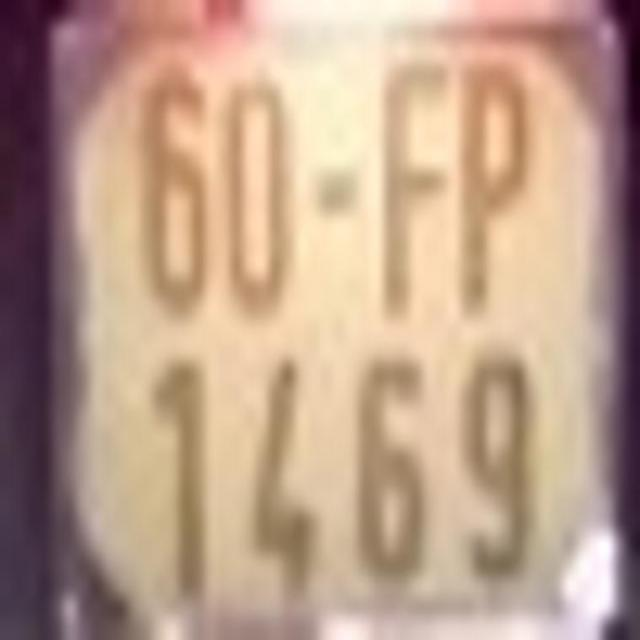0: (222, 84, 294, 314)
1: (149, 352, 223, 599)
4: (257, 360, 309, 602)
6: (359, 358, 426, 588), (147, 83, 216, 296)
9: (462, 361, 528, 577)
F: (371, 70, 448, 314)
P: (456, 62, 526, 316)
